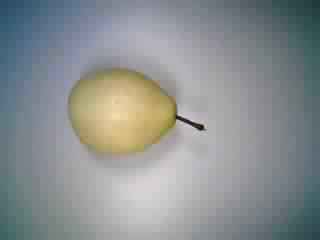pear: (61, 59, 213, 159)
